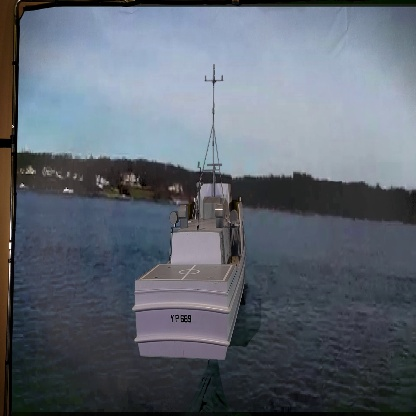YP689: (132, 62, 248, 360)
